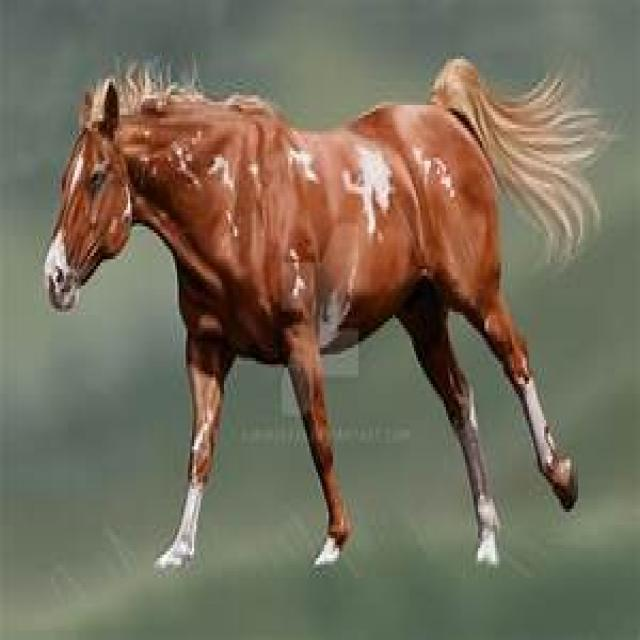horse: (43, 56, 614, 578)
